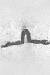D35: (5, 1, 45, 75)
